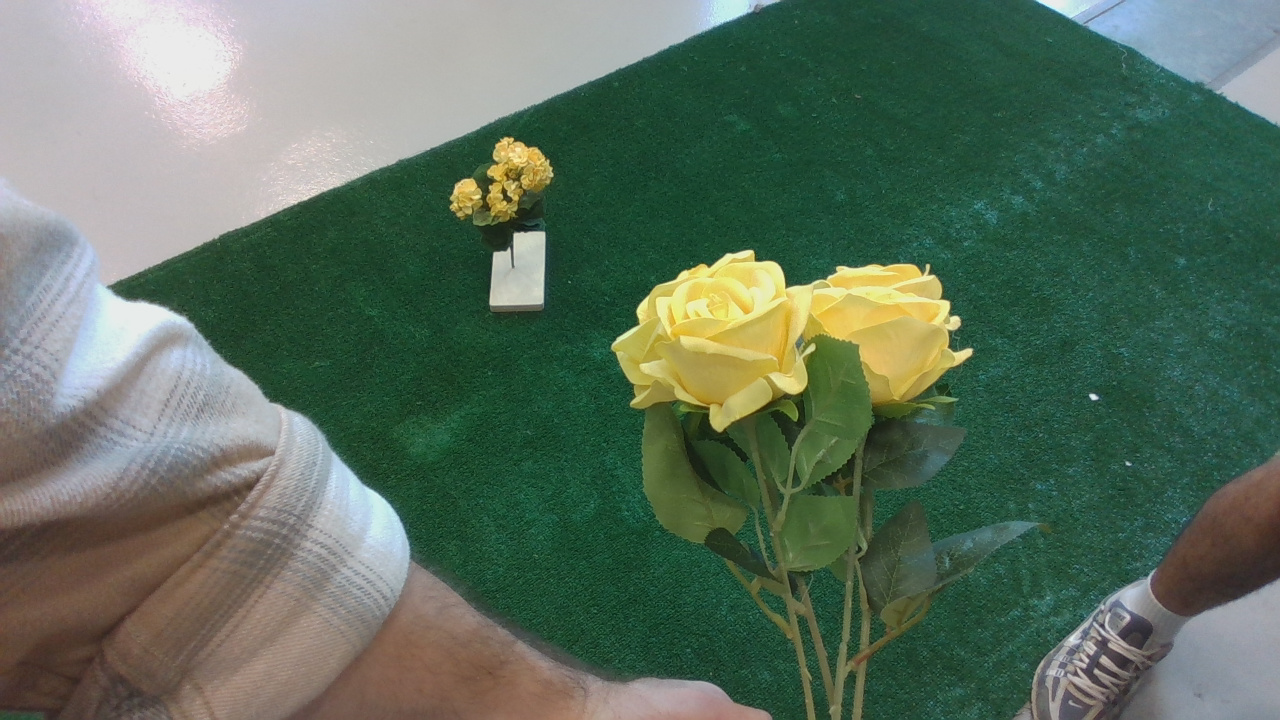geranium: (442, 134, 573, 267)
rose: (603, 258, 1060, 622)
